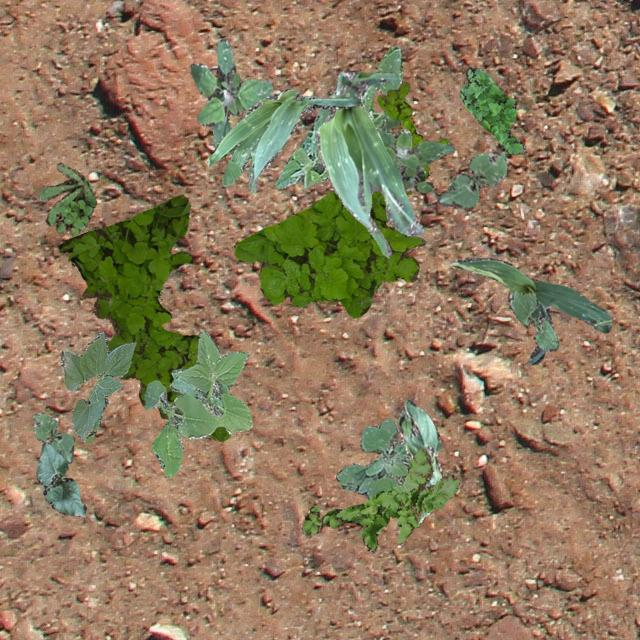crop: (314, 70, 422, 256), (452, 256, 610, 364), (206, 88, 360, 194), (59, 330, 134, 442), (398, 398, 442, 524), (436, 150, 508, 208), (36, 442, 86, 516), (508, 290, 558, 350), (32, 412, 74, 462)
weed: (58, 194, 230, 440), (233, 188, 424, 316), (274, 44, 402, 188), (301, 448, 458, 550), (144, 328, 252, 476), (188, 38, 272, 148), (377, 80, 448, 178), (334, 416, 410, 498), (458, 66, 524, 154), (376, 126, 454, 192), (38, 162, 96, 234)
